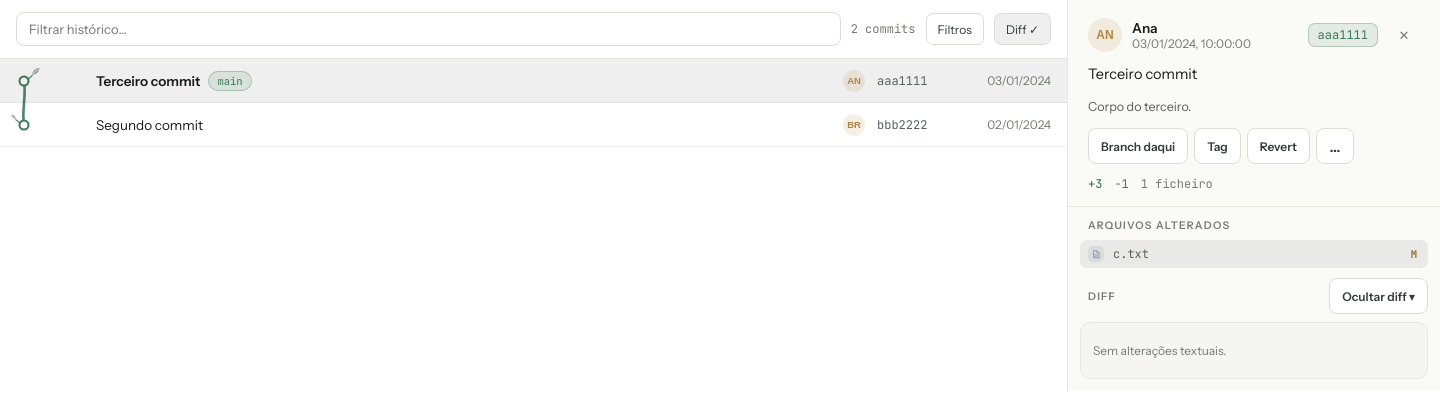
Test case: Commit selection: detail panel shows the selected commit's own data › selecting a different commit fetches and renders ITS OWN detail, replacing the previous one
Expected: the option "Terceiro commit main AN aaa1111 03/01/2024" is shown, left=0, top=59, right=1067, bottom=103
Expected: the text "c.txt" is shown, left=1113, top=246, right=1149, bottom=262
Click the option "Segundo commit BR bbb2222 02/01/2024" at (150, 124), box left=0, top=103, right=1067, bottom=147
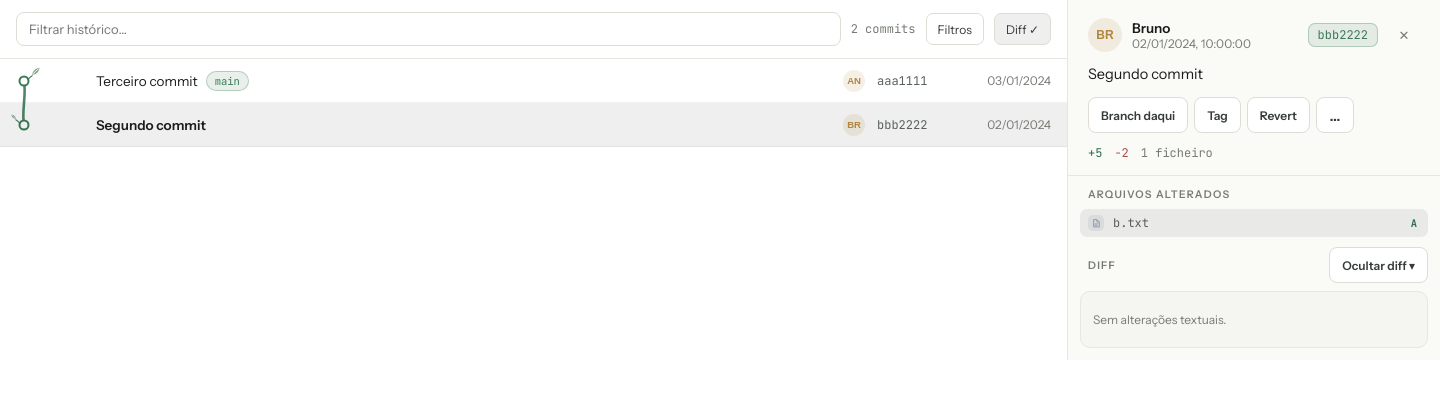
Expected: the text "b.txt" is shown, left=1113, top=215, right=1149, bottom=231
Expected: the text "+5" is shown, left=1088, top=145, right=1102, bottom=161
Expected: the button "c.txt" is gone
